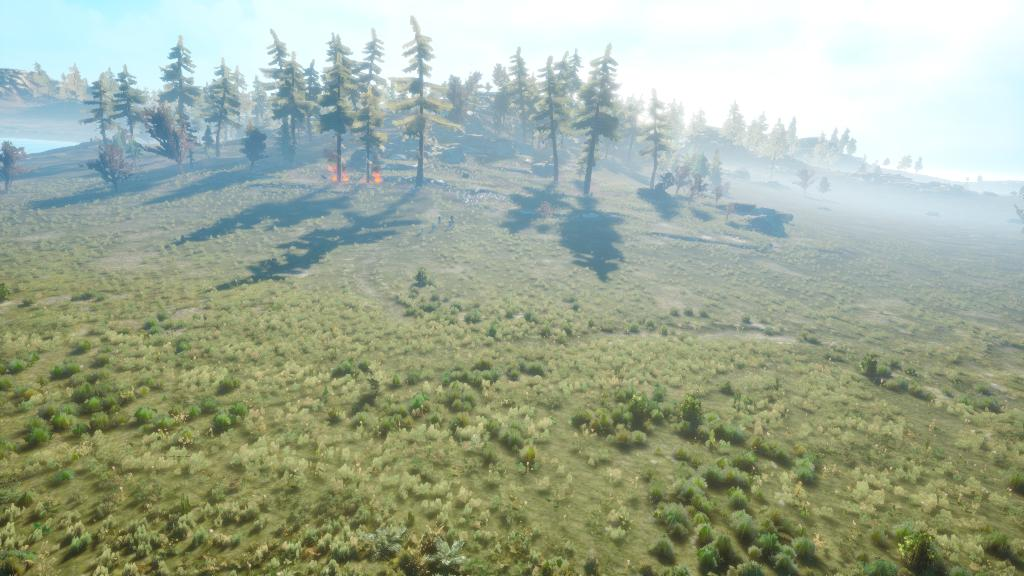Fire: (318, 157, 360, 187), (362, 165, 390, 191)
